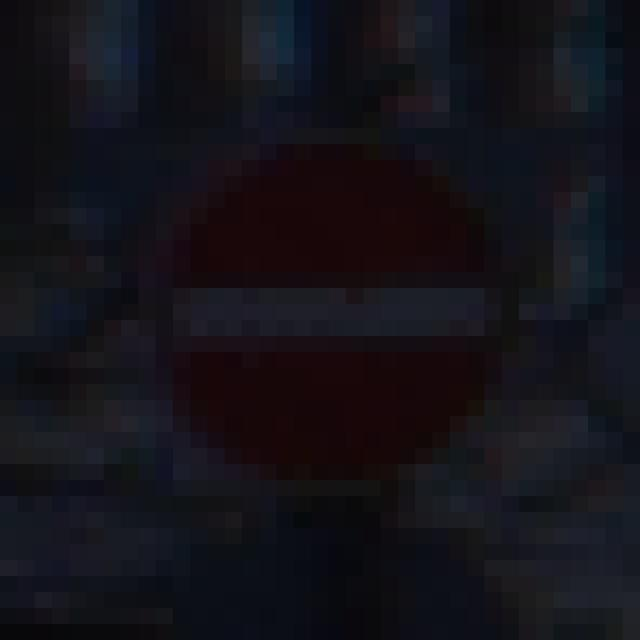No Entry: (105, 81, 554, 561)
